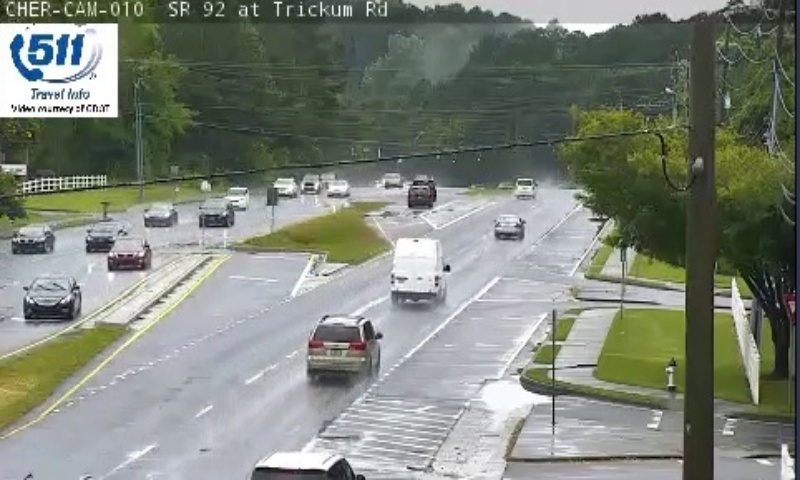car: (306, 315, 381, 373), (494, 214, 524, 238), (514, 178, 536, 198)
van: (391, 238, 443, 299)
